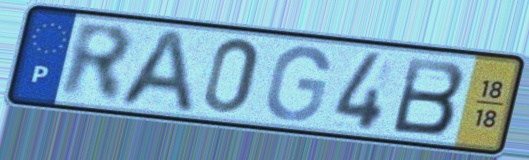0: (199, 35, 262, 118)
4: (331, 48, 388, 132)
A: (112, 26, 197, 117)
B: (389, 54, 468, 138)
G: (262, 44, 333, 124)
R: (58, 18, 136, 106)
